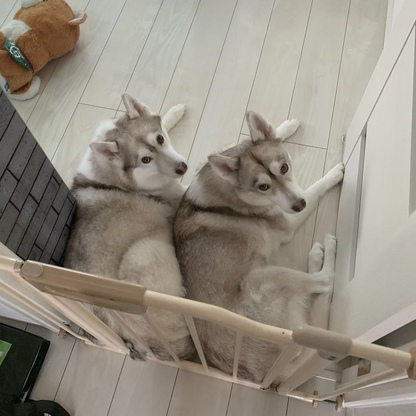husky: (173, 91, 346, 392), (62, 86, 195, 370)
